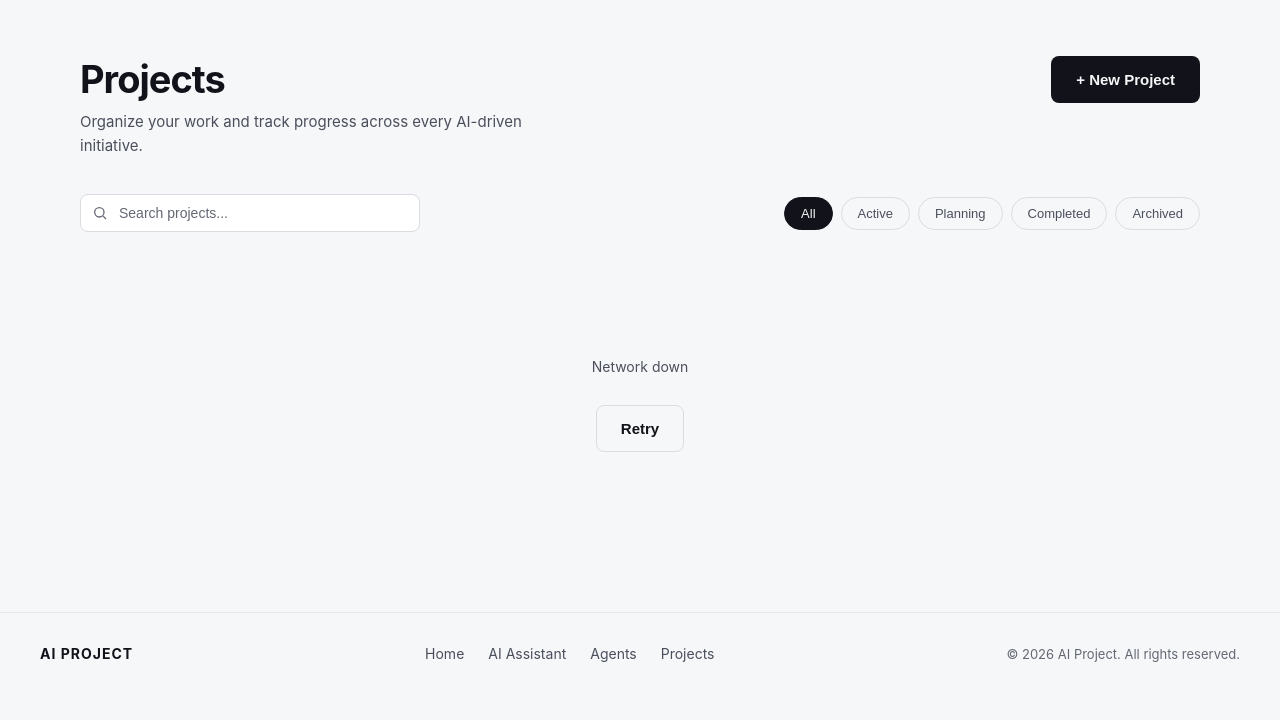
Test case: Projects — list query › re-fetches and renders the list when Retry is clicked after a failure
Expected: the text "Network down" is shown, [592,358,688,375]
Click the button "Retry" at point(640, 428), box [596,405,684,452]
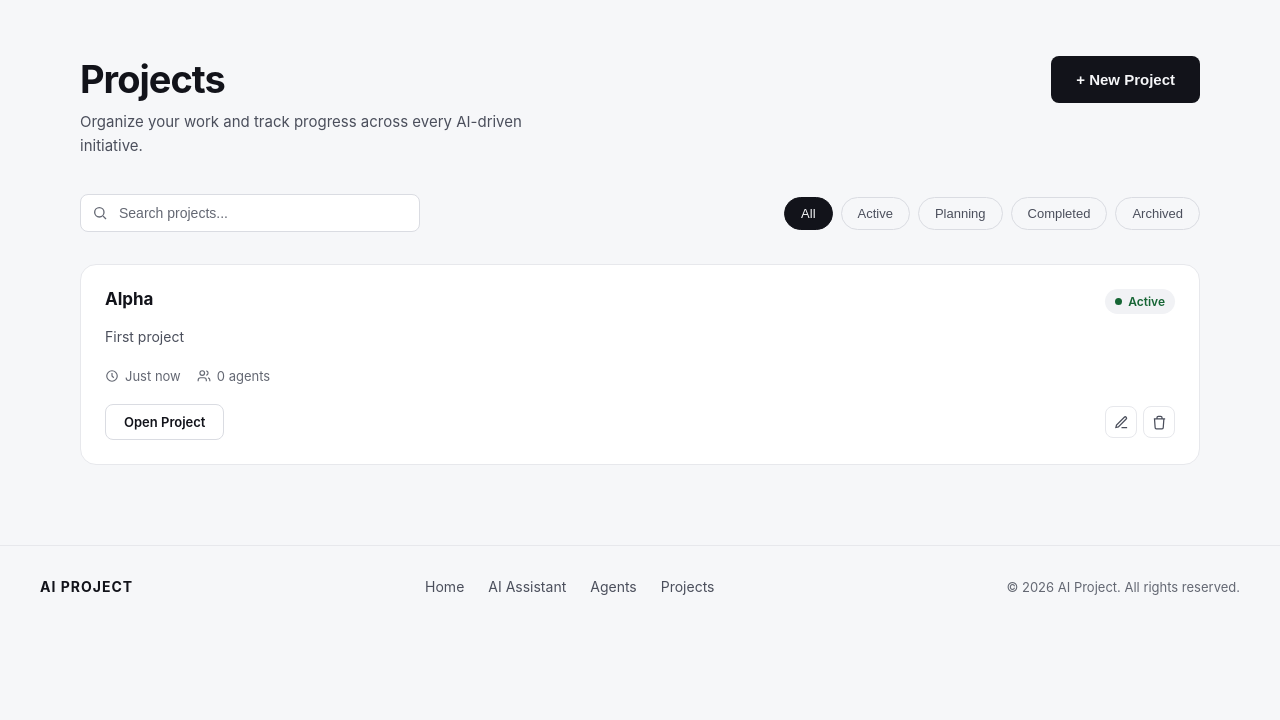
Now the heading "Alpha" is shown, box [105,289,154,309]
Now the text "Network down" is gone
